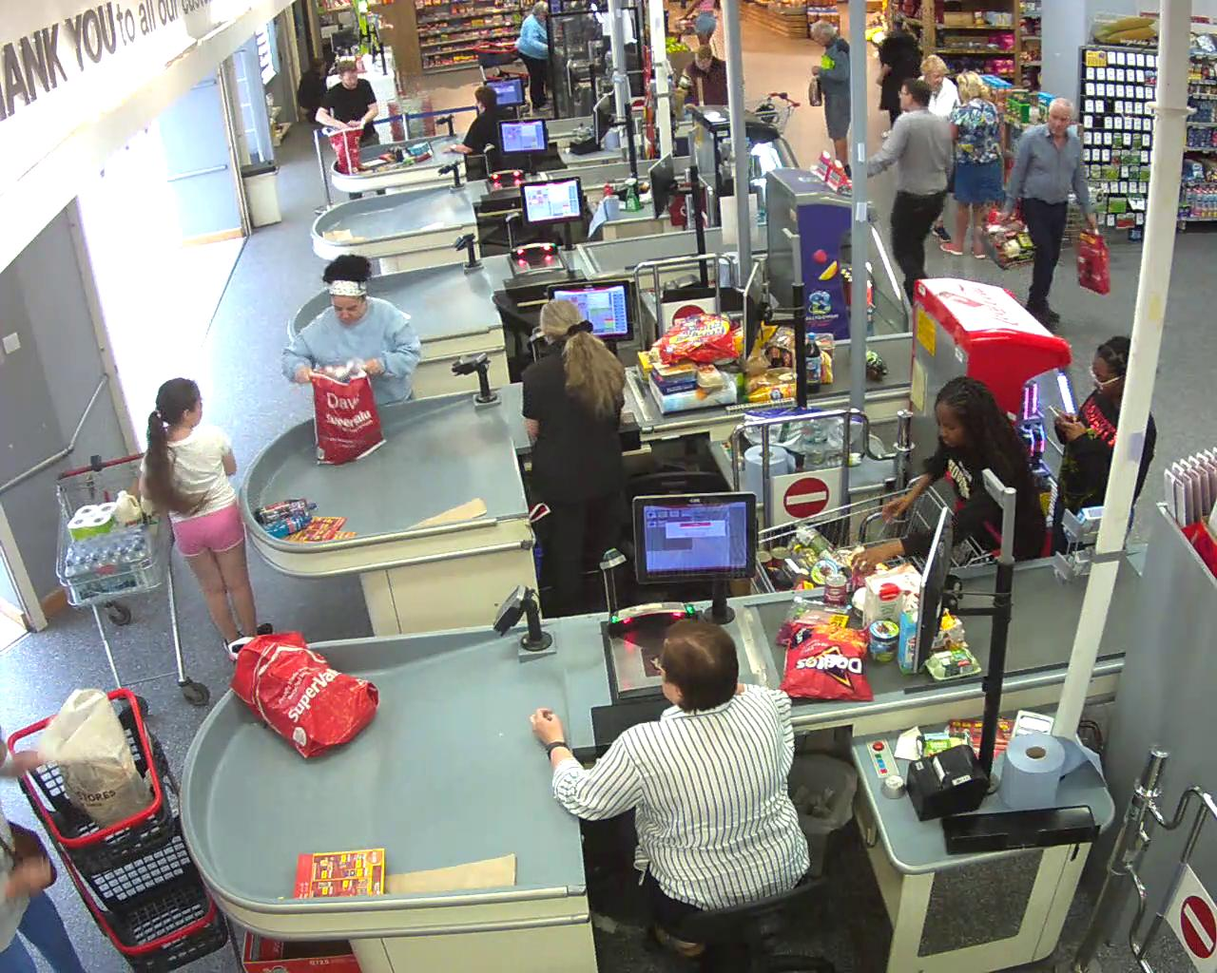carrying-item: (1074, 227, 1113, 297), (807, 75, 822, 108)
filled-basket: (979, 208, 1038, 270)
occupied-checkout-counter: (491, 490, 814, 973), (449, 258, 651, 570), (437, 76, 541, 161)
person: (999, 97, 1096, 326), (811, 22, 851, 181)
person-with-basket-trolly-and-carrying-item: (983, 96, 1112, 325)
person-with-carrying-item: (807, 22, 850, 182)
vacant-checkout-counter: (452, 176, 617, 375), (440, 120, 560, 238)
